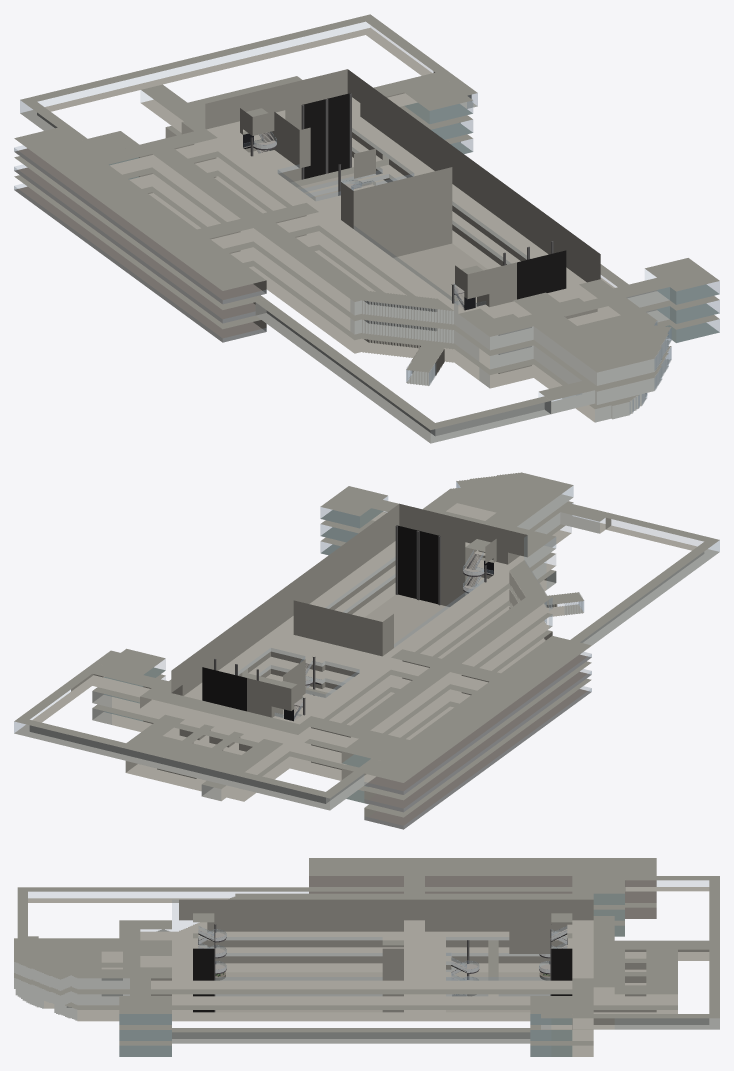
The model's file is mall_blockout.glb.
3 views of the same model, one above another, from view 1: azimuth 30°, elevation 25°; view 2: azimuth 150°, elevation 25°; view 3: azimuth 270°, elevation 25° (orthographic). The views are drawn at different scales.
Visible parts, largest first — view 1: ceilings, floors, walls, glass, floor_garage, rails, elev, floor_bath, floor_atrium, slab, column; view 2: ceilings, floors, walls, glass, floor_garage, rails, elev, floor_atrium, floor_bath, slab, column, stairs; view 3: ceilings, floors, walls, glass, floor_garage, rails, floor_bath, floor_atrium, slab, elev, stairs, column.
Part boxes in pixels (<box>): ceilings: <box>14,14,719,430</box>; floors: <box>20,27,671,443</box>; walls: <box>37,69,657,436</box>; glass: <box>20,22,719,442</box>; floor_garage: <box>14,148,265,342</box>; rails: <box>14,128,530,342</box>; elev: <box>302,93,566,299</box>; floor_bath: <box>109,102,719,342</box>; floor_atrium: <box>297,173,487,306</box>; slab: <box>243,132,526,265</box>; column: <box>250,93,553,303</box>; ceilings: <box>14,472,719,817</box>; floors: <box>14,494,719,810</box>; walls: <box>29,503,704,819</box>; glass: <box>14,482,719,809</box>; floor_garage: <box>364,654,591,829</box>; rails: <box>234,551,591,829</box>; elev: <box>202,525,440,711</box>; floor_atrium: <box>283,594,449,717</box>; floor_bath: <box>104,508,382,804</box>; slab: <box>238,560,493,689</box>; column: <box>214,525,486,715</box>; stairs: <box>275,553,493,720</box>; ceilings: <box>14,858,719,1045</box>; floors: <box>14,887,719,1056</box>; walls: <box>66,880,709,1038</box>; glass: <box>14,881,719,1056</box>; floor_garage: <box>309,876,656,918</box>; rails: <box>198,926,567,996</box>; floor_bath: <box>119,893,624,1056</box>; floor_atrium: <box>215,972,550,1012</box>; slab: <box>198,940,566,969</box>; elev: <box>193,948,572,1012</box>; stairs: <box>198,929,567,980</box>; column: <box>214,924,551,1012</box>.
Size of what is drawn, in the model's own units: 108 by 20.31 by 201.
